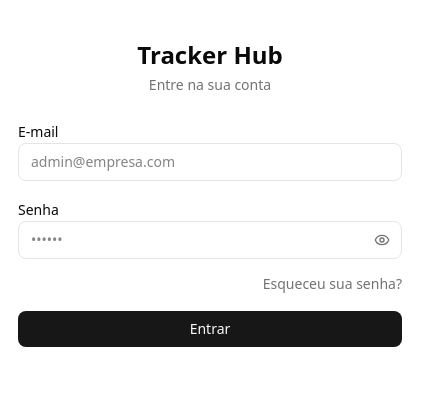
Scenario: LoginPage › credenciais erradas (401) → mensagem de erro
Type "admin@test.com" into the field labelled "E-mail" at (210, 162), box [18,143,402,181]
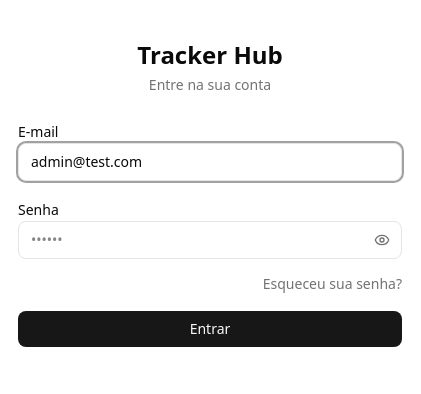
Type "SenhaErrada1" into the password field labelled "Senha" at (210, 240), box [18,221,402,259]
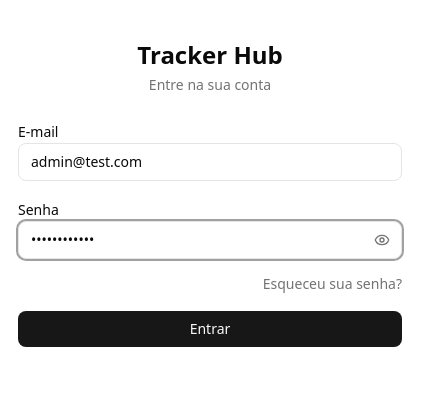
Click the button "Entrar" at (210, 329), box [18,311,402,347]
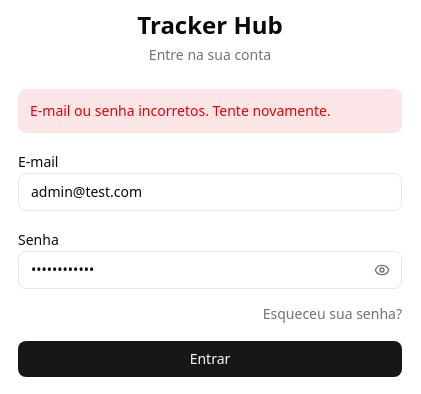
Now the message shows "E-mail ou senha incorretos", box [30,101,331,120]
